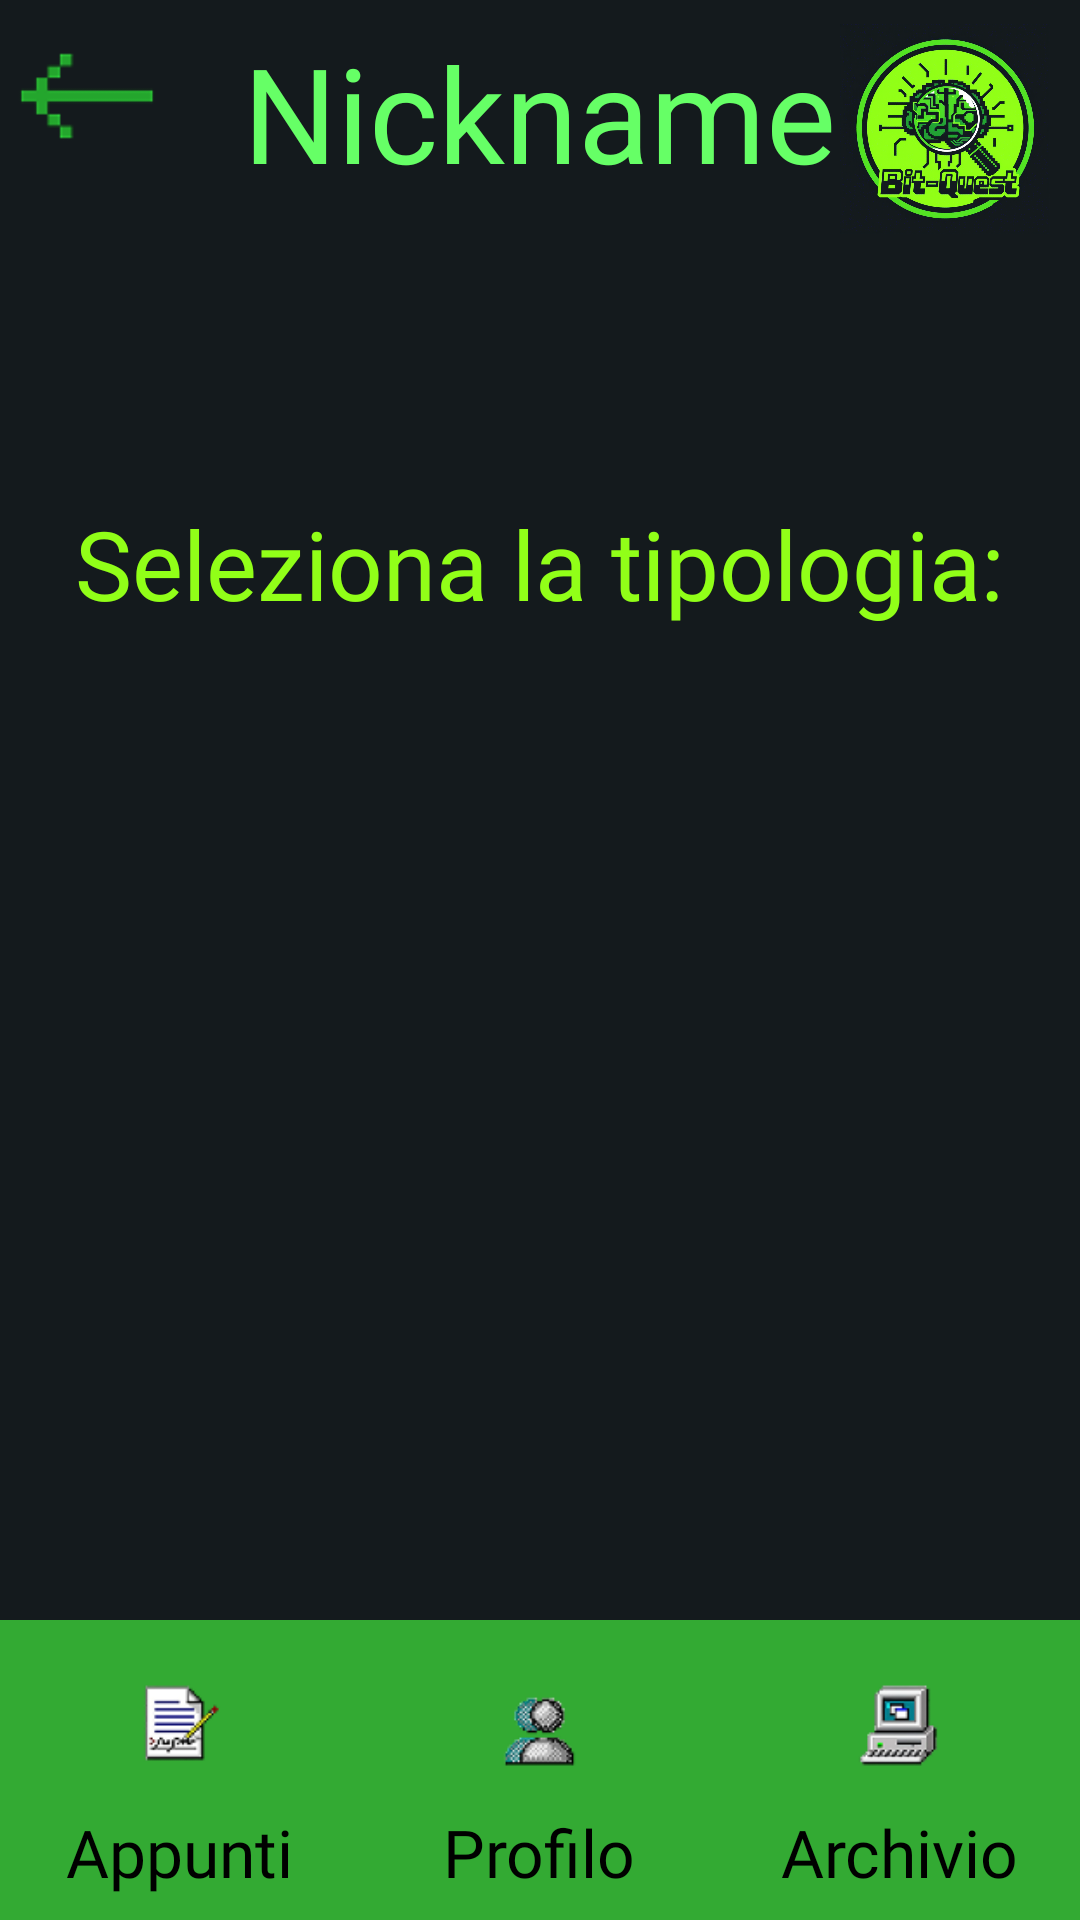

Icons on this 1080px×1920px Android screen, each with its box as (x1, y1, x2, y2):
arrow back: (21, 53, 153, 139)
notes: (145, 1685, 219, 1761)
profile: (505, 1697, 574, 1766)
